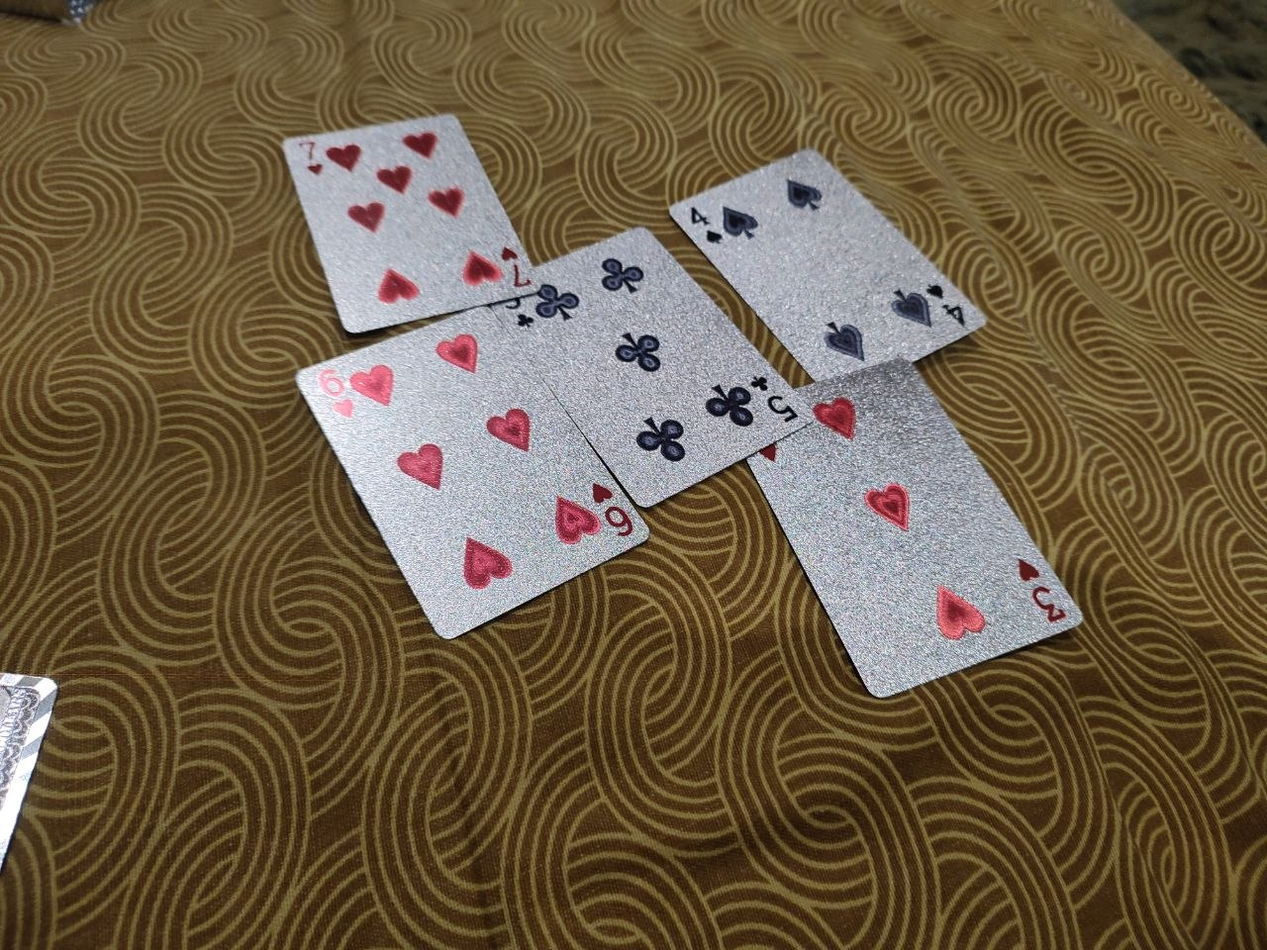3H: (744, 356, 1090, 702)
4S: (667, 145, 991, 384)
5C: (493, 225, 819, 507)
6H: (297, 304, 653, 640)
7H: (279, 108, 544, 334)
